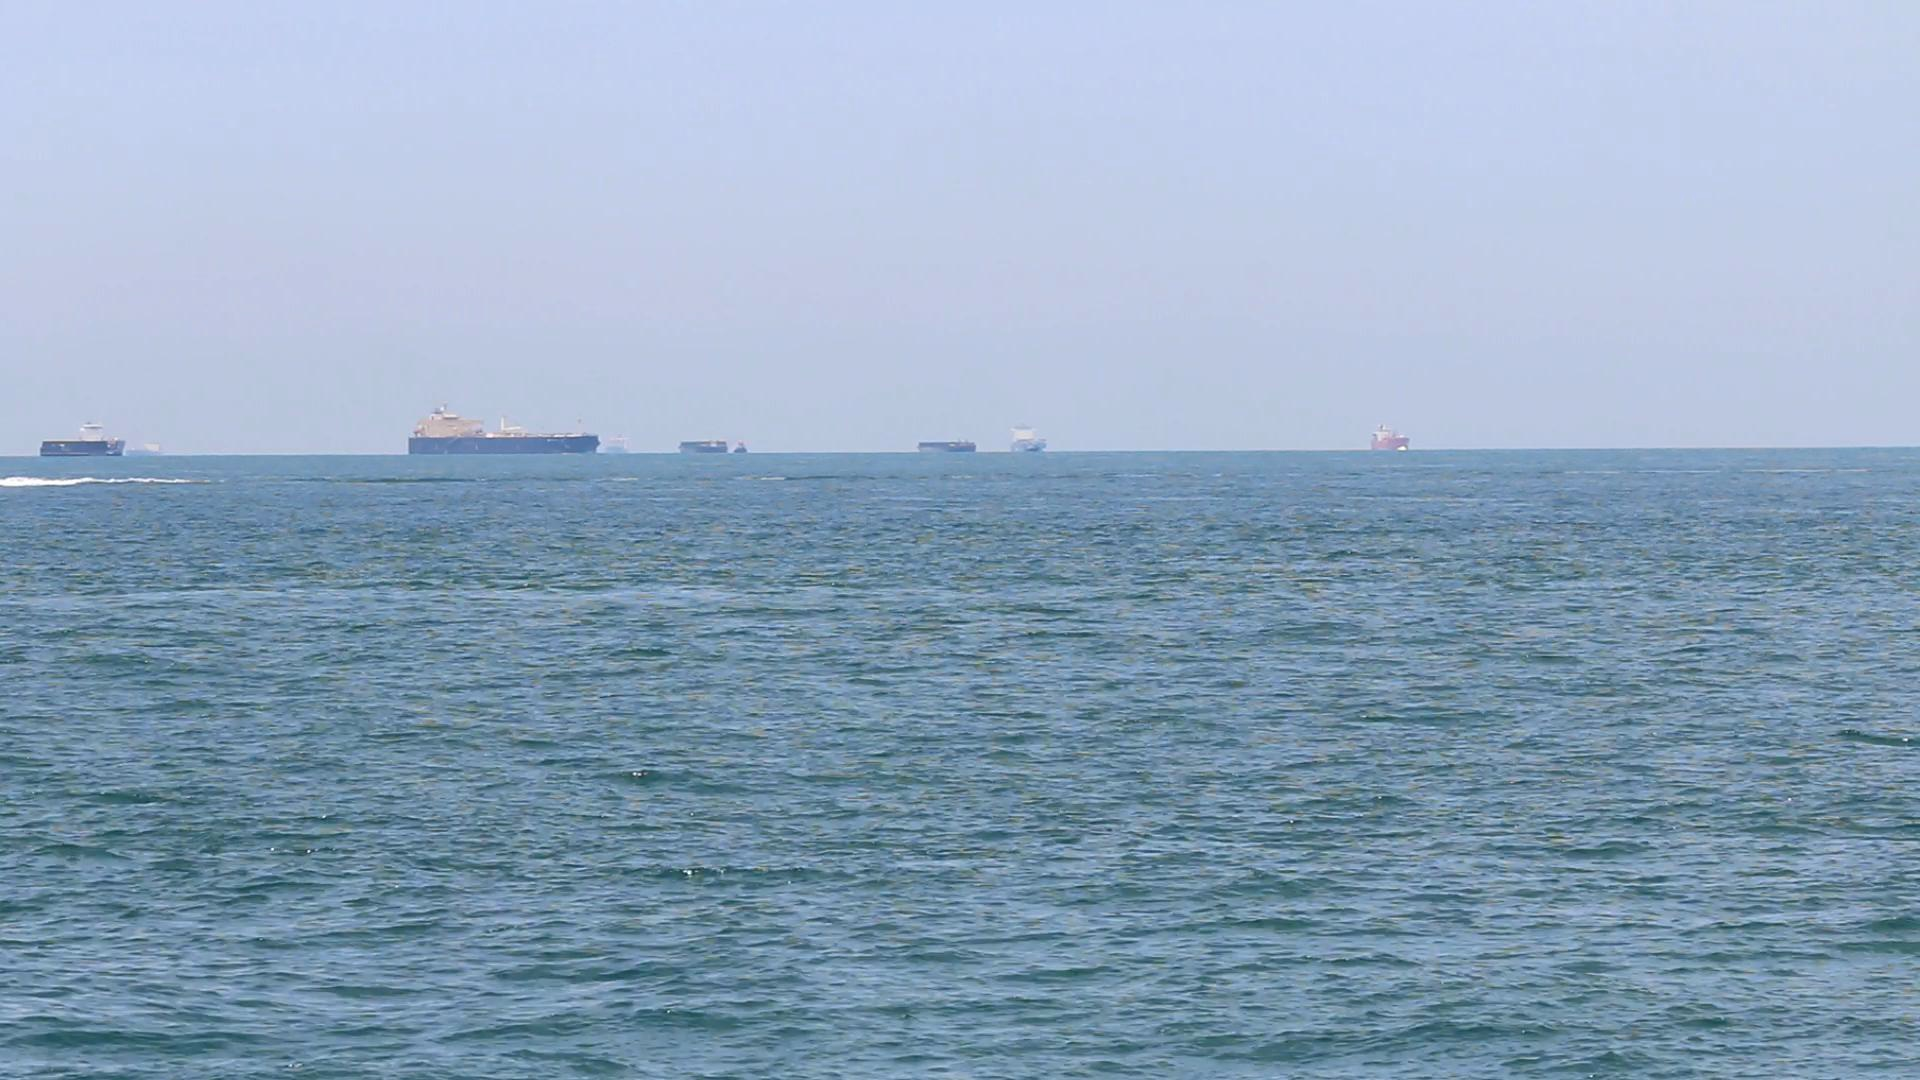Container Ship: (407, 402, 601, 458), (37, 418, 129, 458), (1367, 419, 1411, 455), (1006, 419, 1047, 452), (919, 436, 980, 455), (129, 438, 179, 459), (676, 436, 735, 454), (605, 430, 637, 458), (729, 434, 752, 452)
